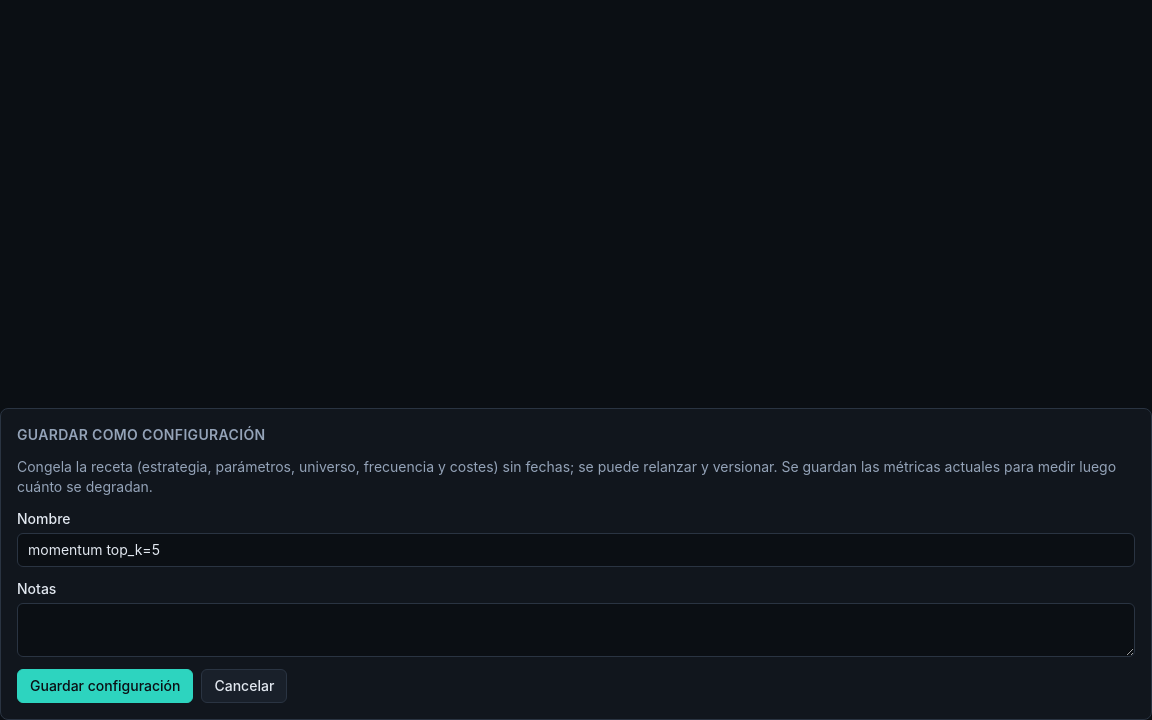
Scenario: GuardarConfiguracion › muestra el error de la API (id duplicado)
(page scrolled)
Click the button "Guardar configuración".
click(105, 686)  # box [17,669,194,703]
(page scrolled)
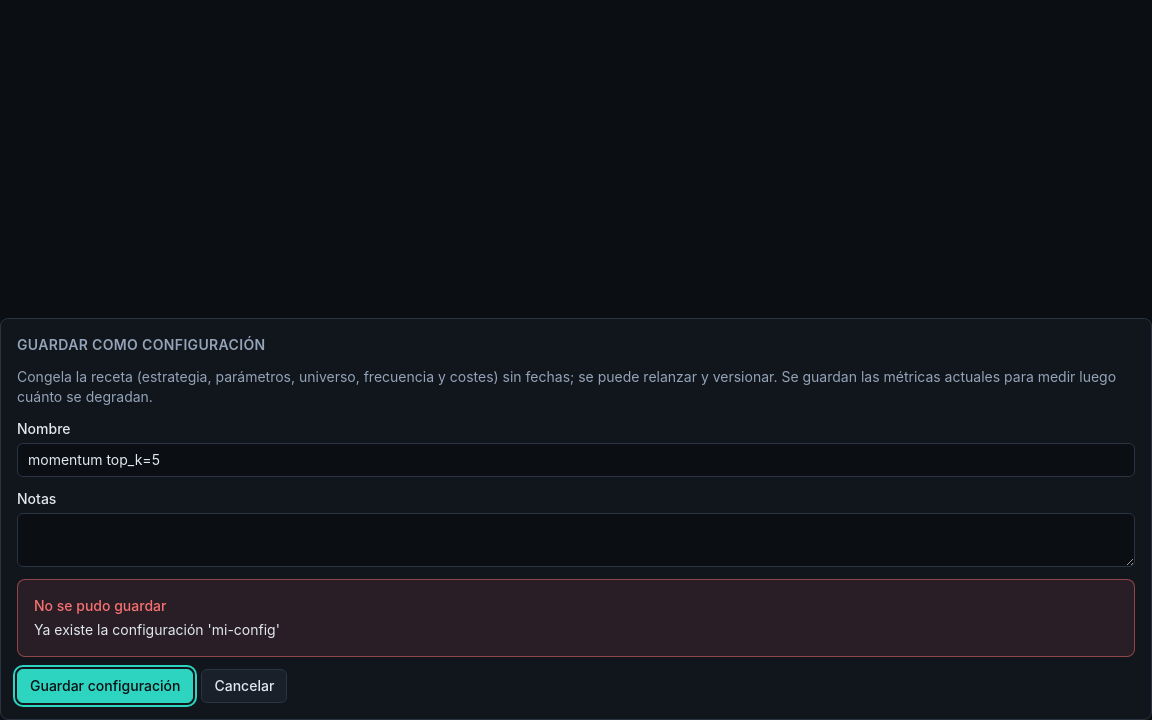
Expected: the text "Ya existe la configuración 'mi-config'" is shown, [34,621,280,638]
